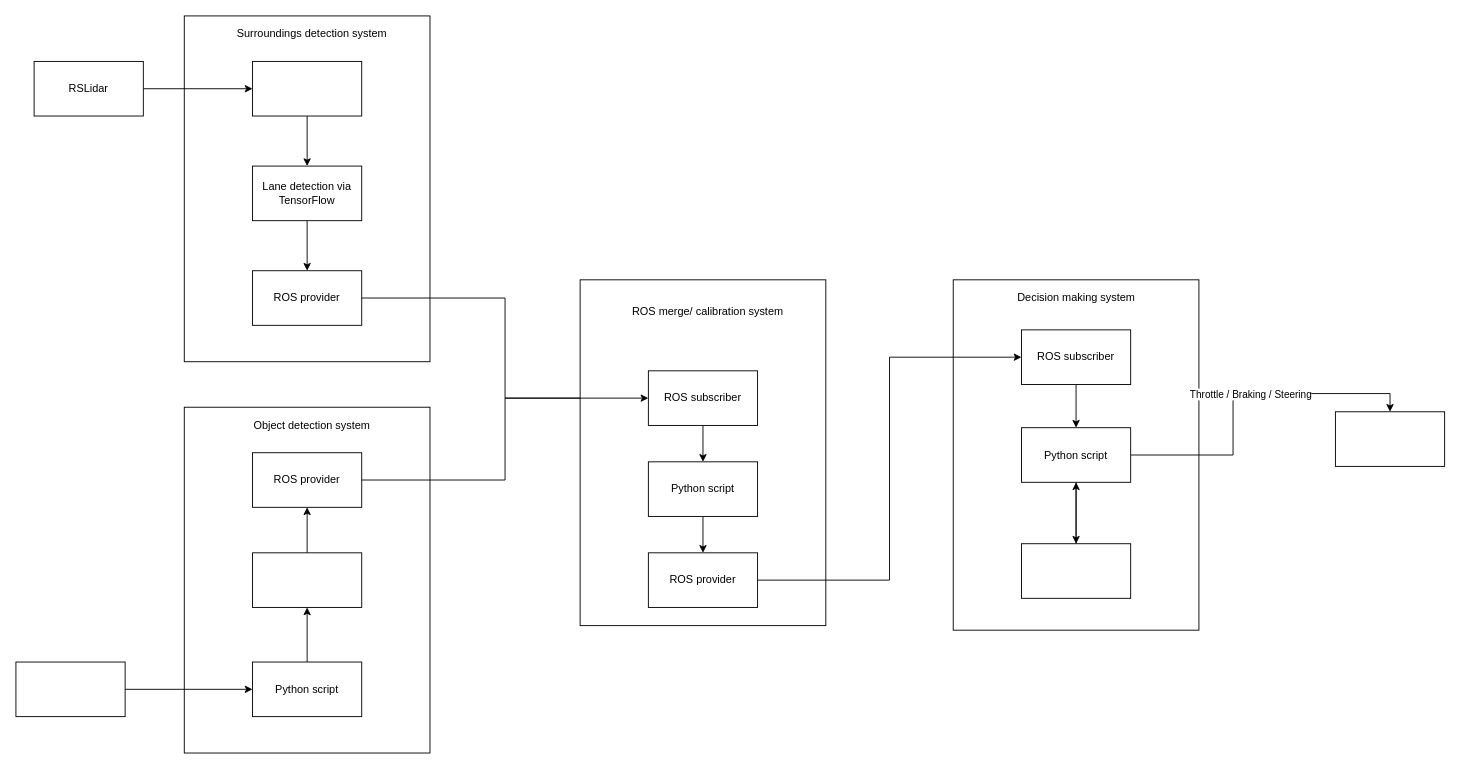
Image size: 1461x769. Some labels were removed from this diagram. The box of each missing label's shape, as (x1, y1, x2, y2) in pixels:
c++ script: (252, 61, 362, 116)
Car / ECU /BUS: (1335, 411, 1445, 466)
Decision making via TensorFlow: (1021, 543, 1131, 598)
Object detection via TensorFlow: (252, 552, 362, 607)
Zed camera: (15, 661, 125, 717)
